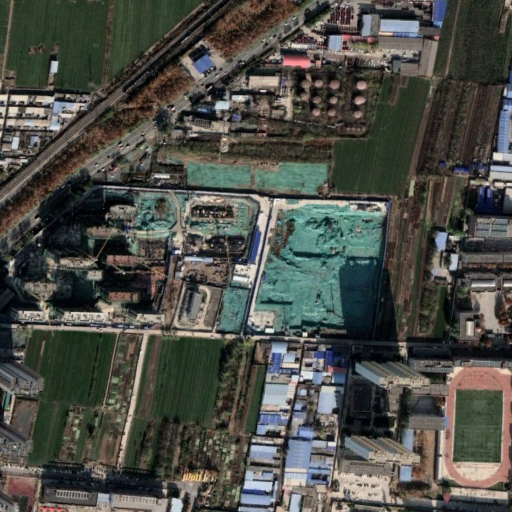cw: (250, 197, 389, 342), (99, 190, 256, 238), (186, 161, 329, 193), (216, 284, 251, 334)
